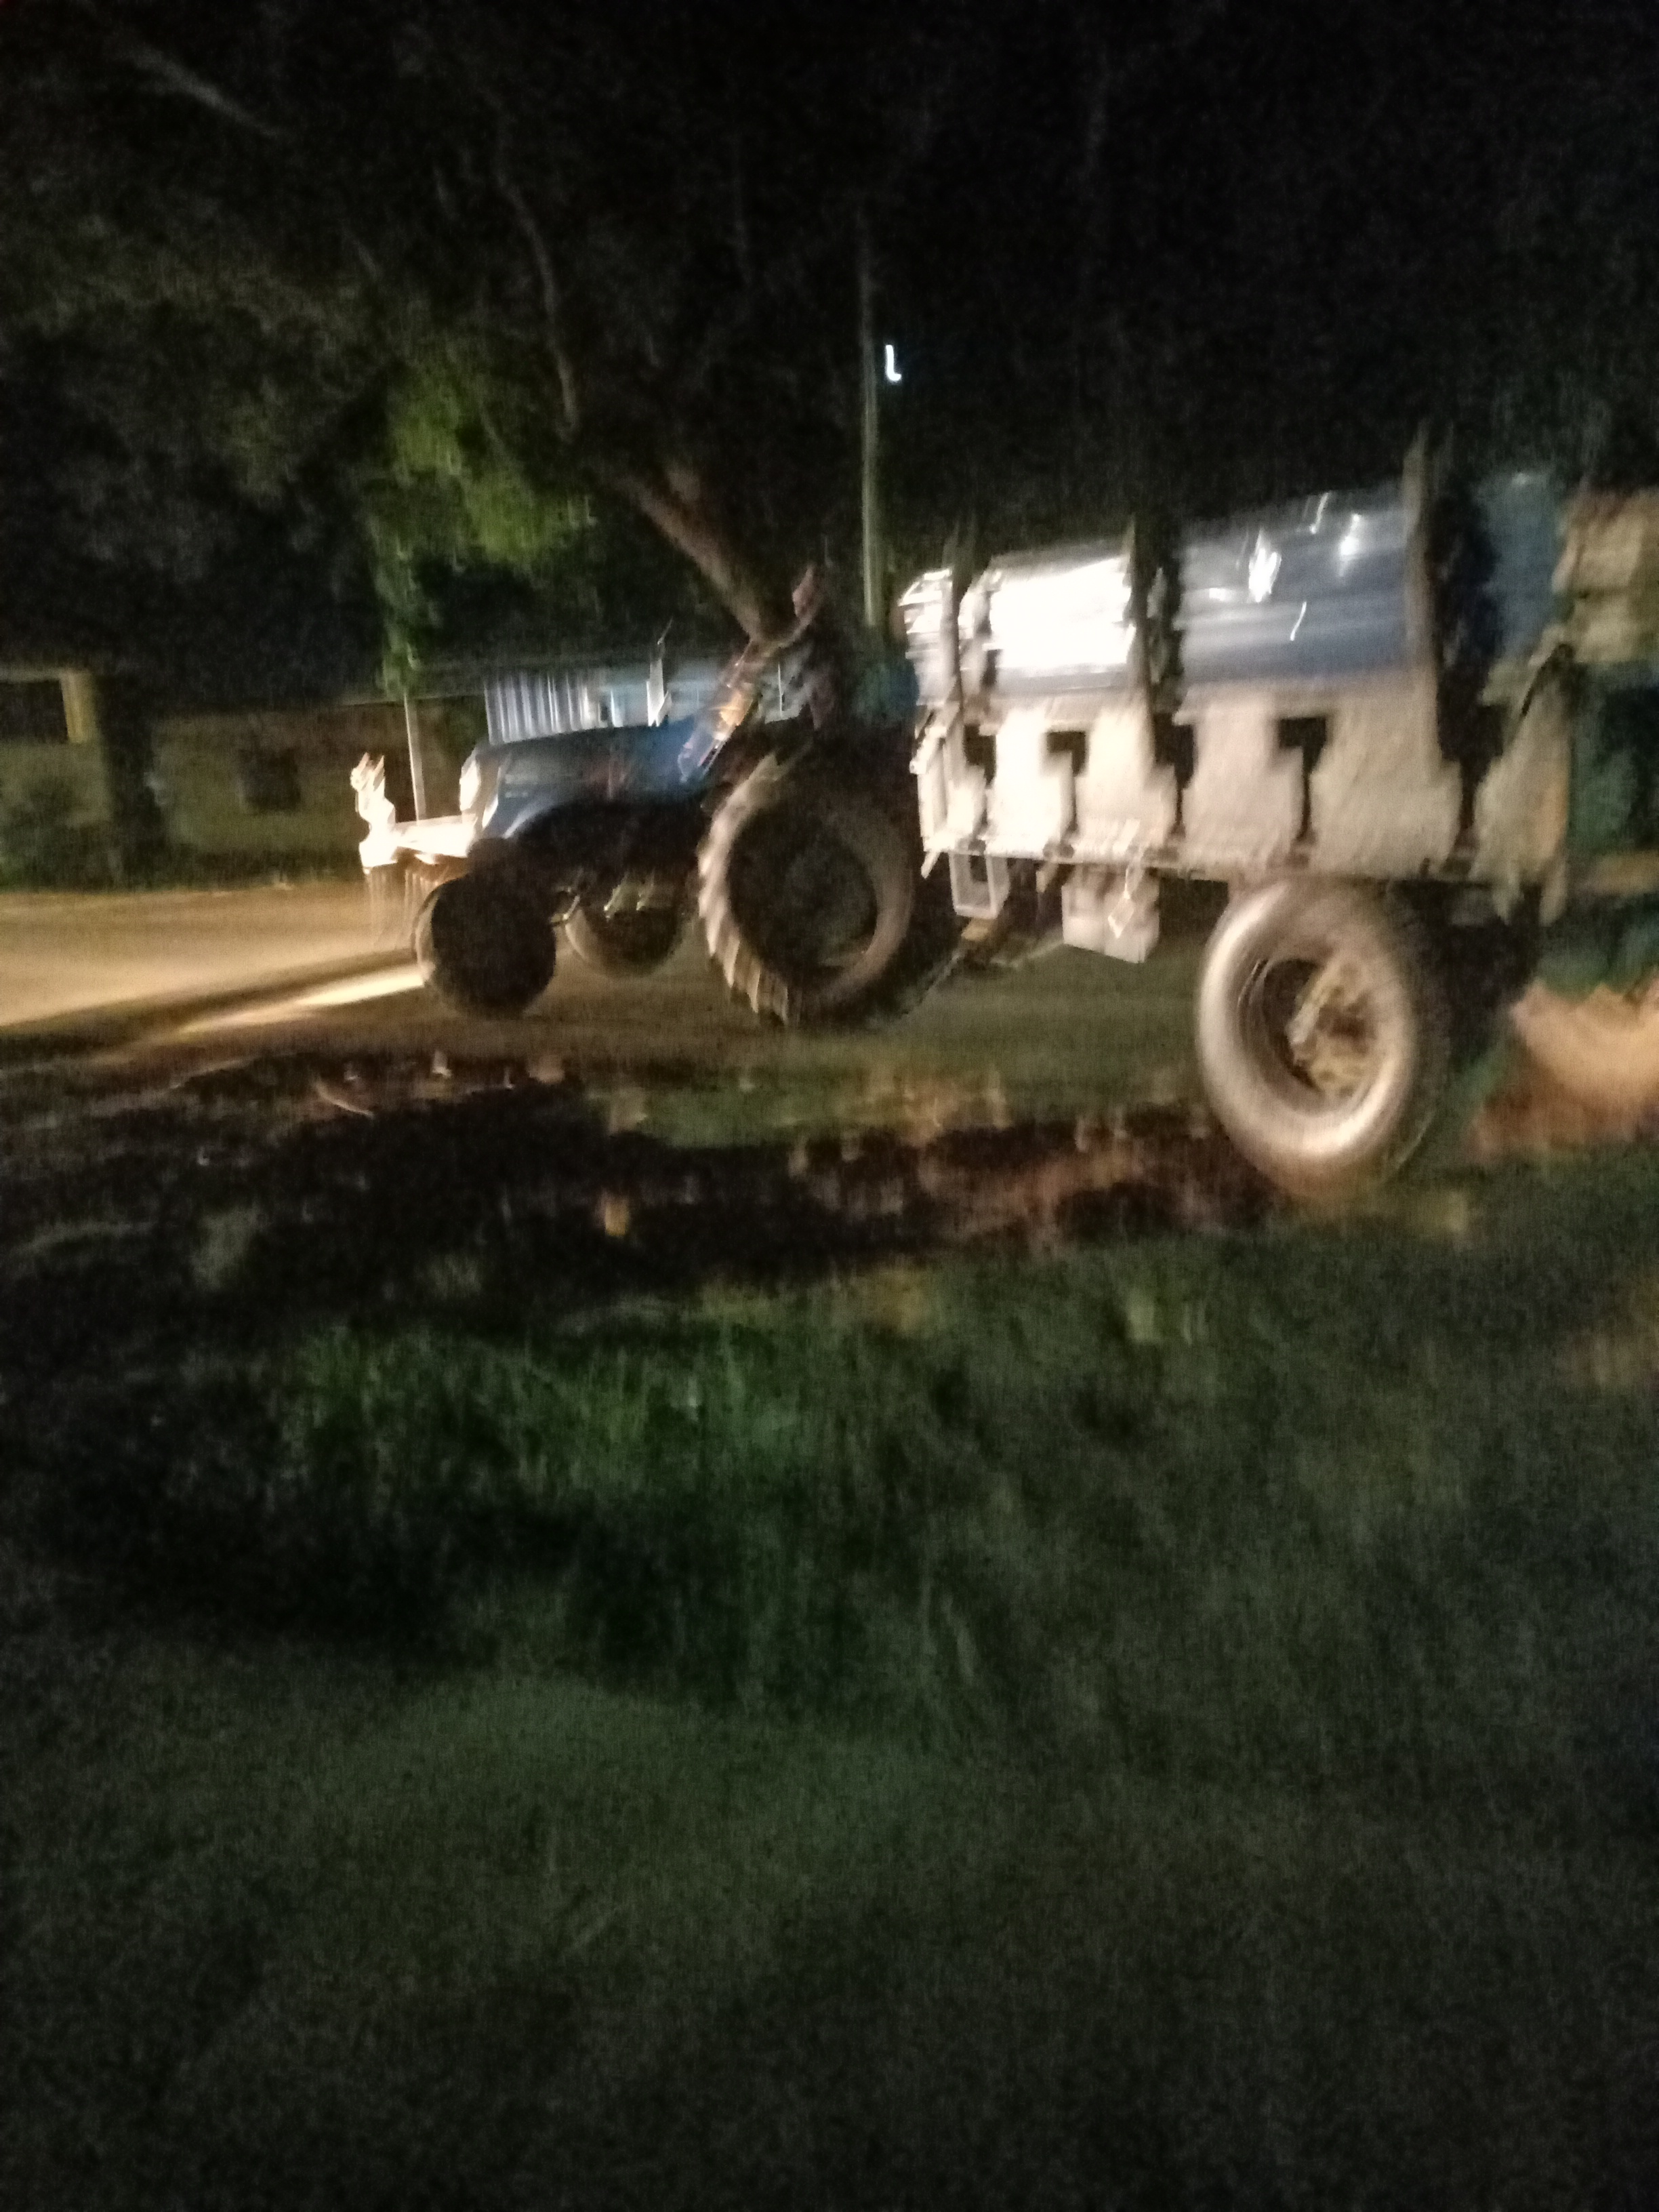tractor: (345, 421, 1659, 1212)
